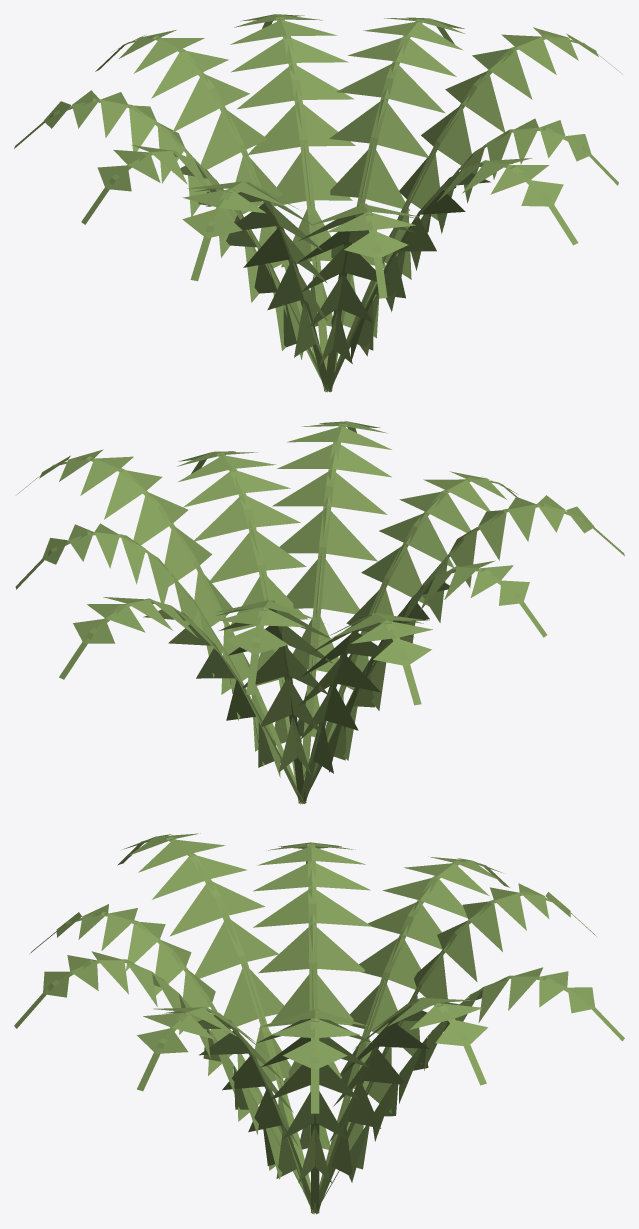
The model's file is fern-varied-2026-11-04.glb.
3 renders of one model, top to bottom at view 1: azimuth 30°, elevation 25°; view 2: azimuth 150°, elevation 25°; view 3: azimuth 270°, elevation 25°, orthographic. The views are drawn at different scales.
Parts seen in each view (by area): view 1: normalized-fern; view 2: normalized-fern; view 3: normalized-fern.
Boxes of the visible parts, left/top/right/bottom form: normalized-fern: left=14, top=14, right=622, bottom=392; normalized-fern: left=15, top=421, right=624, bottom=804; normalized-fern: left=14, top=833, right=624, bottom=1214.
Bounding box in the file's own units: 1.84 × 0.9797 × 1.82.
